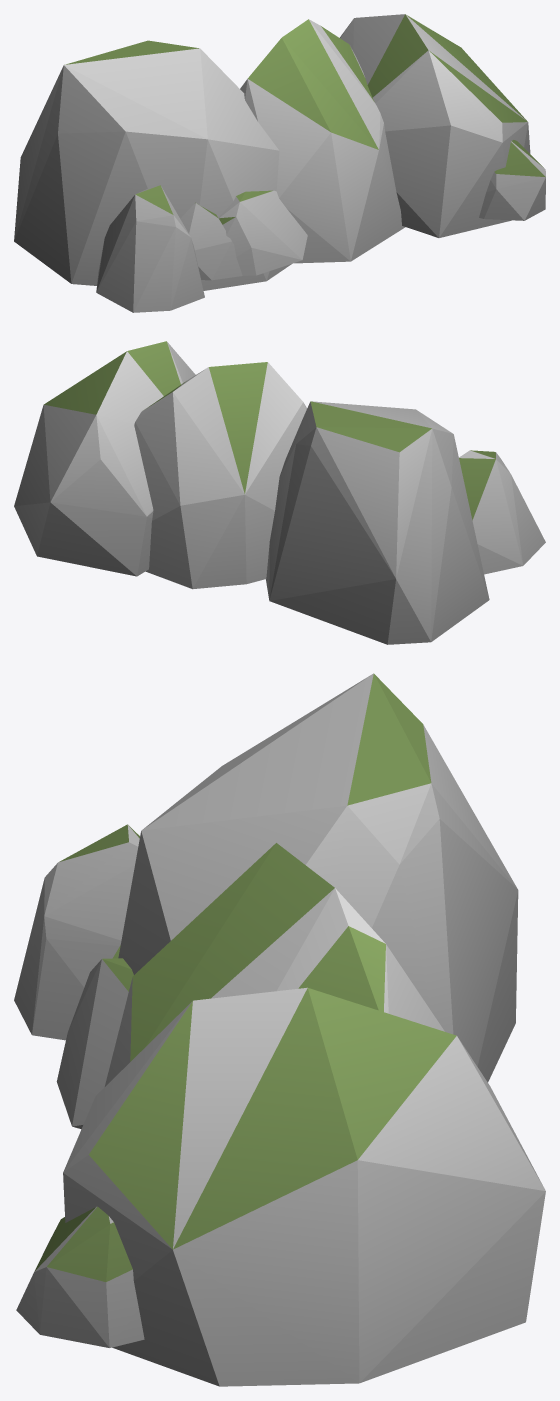
The model's file is rk_rocks_1.glb.
3 renders of one model, top to bottom at view 1: azimuth 30°, elevation 25°; view 2: azimuth 150°, elevation 25°; view 3: azimuth 270°, elevation 25°, orthographic. The views are drawn at different scales.
Visible parts, largest first — view 1: rk_rocks_1; view 2: rk_rocks_1; view 3: rk_rocks_1.
Boxes of the visible parts, x1,y1,x2,y2 form: rk_rocks_1: (14,14,545,312); rk_rocks_1: (14,341,545,644); rk_rocks_1: (14,673,545,1386).
Size of the model in its own units: 46.61 by 18.55 by 25.89.
